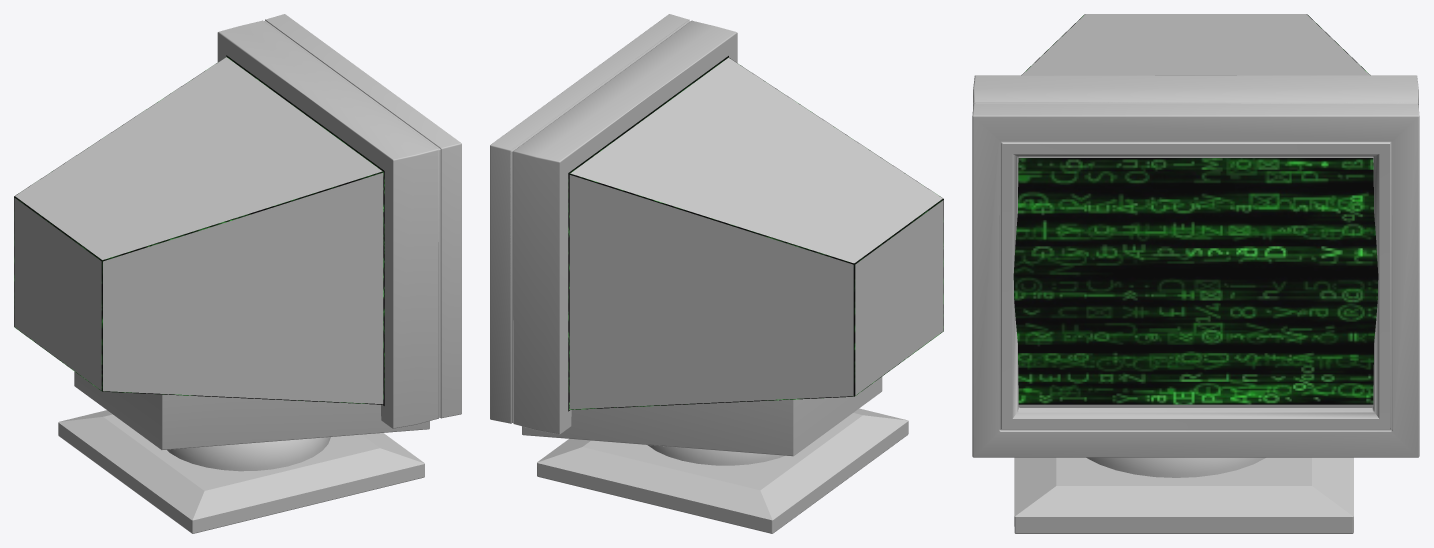
3 renders of one model, left to right at view 1: azimuth 30°, elevation 25°; view 2: azimuth 150°, elevation 25°; view 3: azimuth 270°, elevation 25°, orthographic. The views are drawn at different scales.
Parts seen in each view (by area): view 1: mon_0; view 2: mon_0; view 3: mon_0.
Part boxes in pixels (left/top/right/bottom): mon_0: left=14, top=14, right=461, bottom=533; mon_0: left=490, top=14, right=943, bottom=533; mon_0: left=972, top=14, right=1419, bottom=533.
Size of the model in its own units: 0.72 by 0.7447 by 0.7001.
